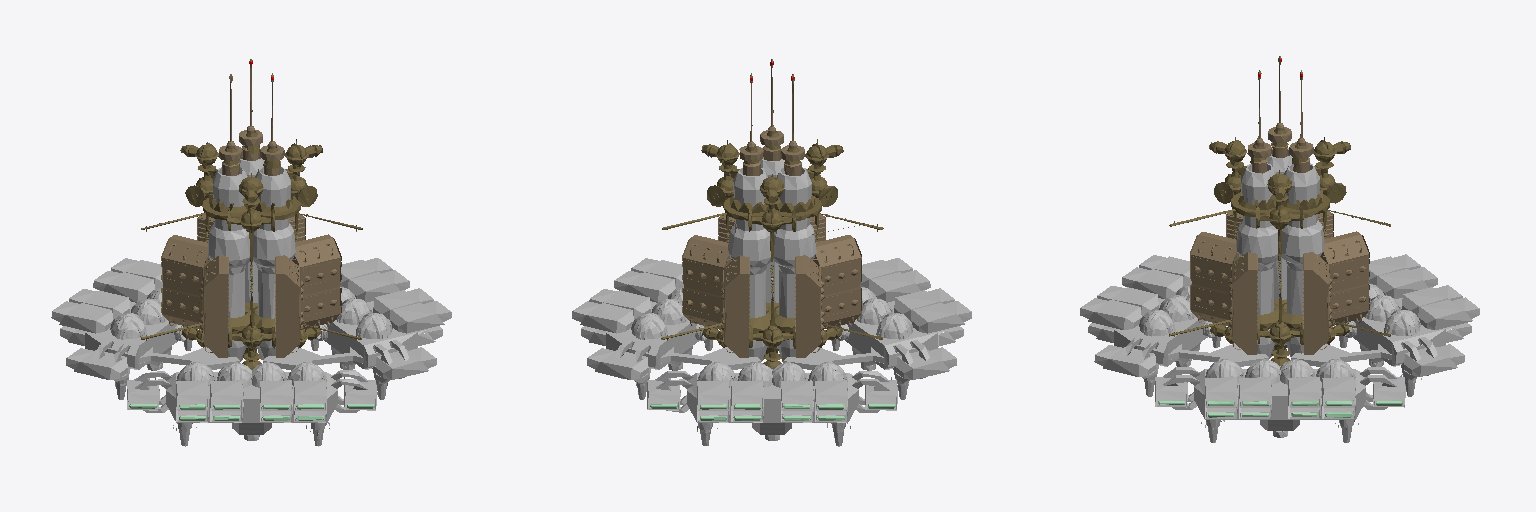
Rendered from drift.obj.
The picture shows the model from 3 angles: view 1: azimuth 30°, elevation 25°; view 2: azimuth 150°, elevation 25°; view 3: azimuth 270°, elevation 25°; orthographic projection.
Parts seen in each view (by area): view 1: Default; view 2: Default; view 3: Default.
Part boxes in pixels (left/top/right/bottom): Default: left=51, top=59, right=451, bottom=446; Default: left=572, top=59, right=971, bottom=446; Default: left=1080, top=56, right=1479, bottom=442.
Size of the model in its own units: 62.17 by 70.46 by 67.58.